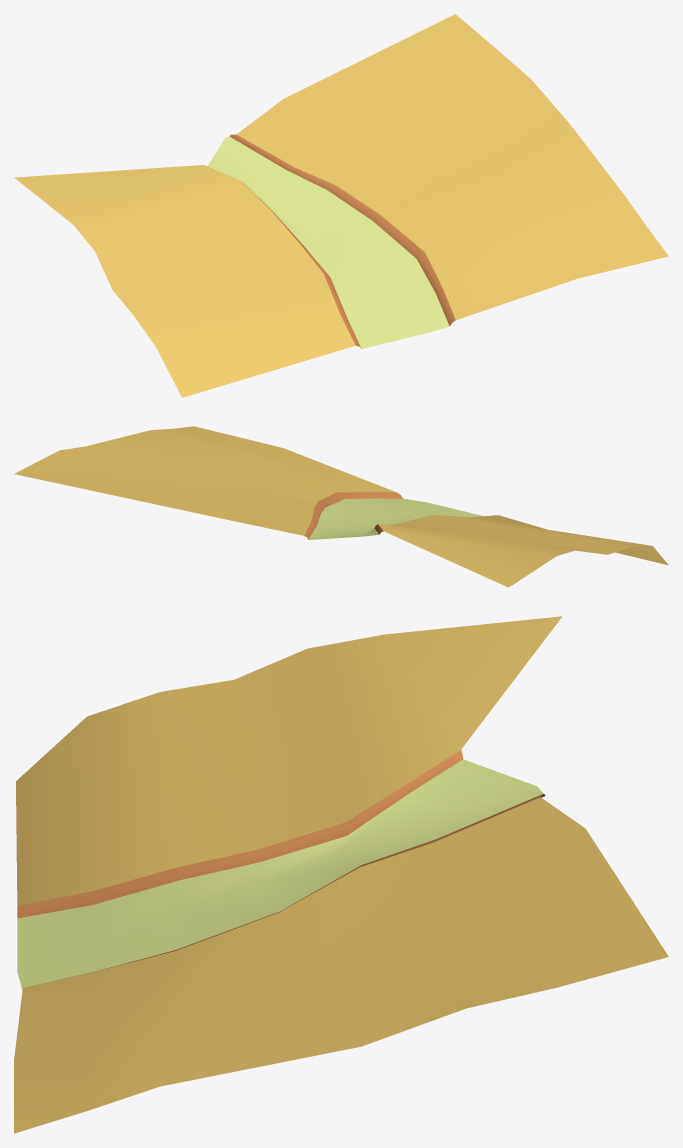
File: Floor3.fbx
The picture shows the model from 3 angles, top to bottom: view 1: azimuth 30°, elevation 25°; view 2: azimuth 150°, elevation 25°; view 3: azimuth 270°, elevation 25°; orthographic projection. The views are drawn at different scales.
Parts seen in each view (by area): view 1: Floor.004; view 2: Floor.004; view 3: Floor.004.
Part boxes in pixels (bbox=[...]): Floor.004: bbox=[14, 14, 668, 397]; Floor.004: bbox=[14, 426, 668, 587]; Floor.004: bbox=[14, 616, 668, 1133].
Bounding box in the file's own units: 2585 × 615 × 1794.
